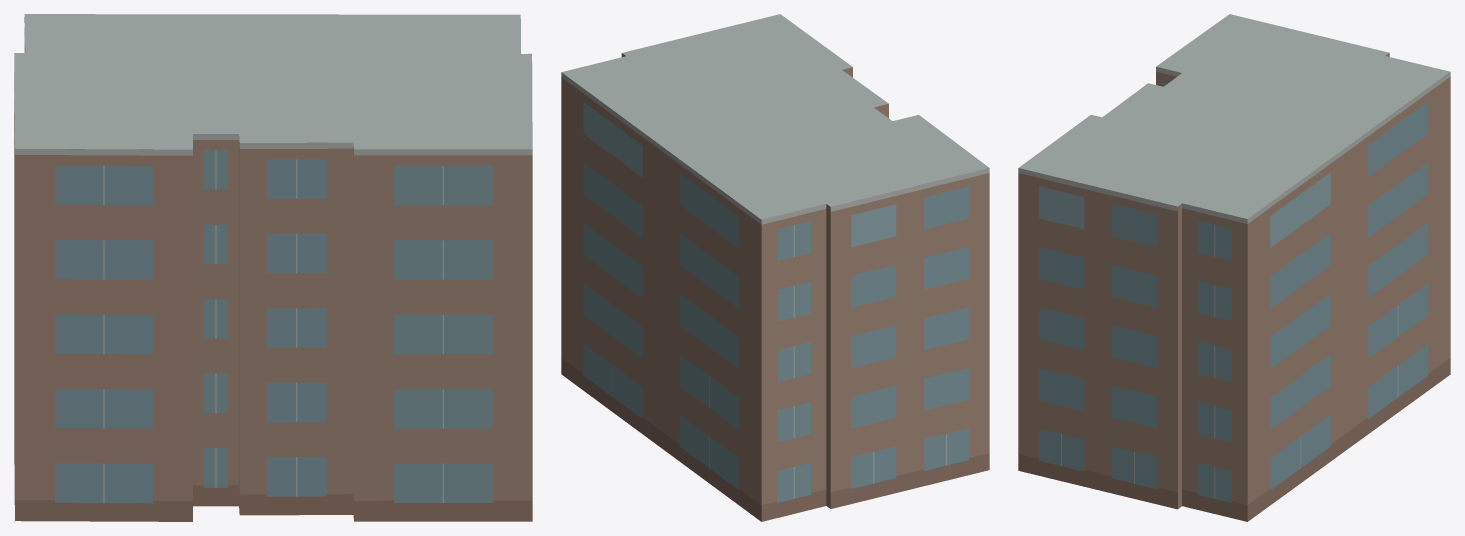
The model's file is survey-upis-32668504.glb.
3 views of the same model, side by side, from view 1: azimuth 30°, elevation 25°; view 2: azimuth 150°, elevation 25°; view 3: azimuth 270°, elevation 25° (orthographic). The views are drawn at different scales.
Parts seen in each view (by area): view 1: survey-upis-32668504.tmp; view 2: survey-upis-32668504.tmp; view 3: survey-upis-32668504.tmp.
Boxes of the visible parts, x1=… form: survey-upis-32668504.tmp: x1=14, y1=14, x2=532, y2=521; survey-upis-32668504.tmp: x1=561, y1=14, x2=989, y2=521; survey-upis-32668504.tmp: x1=1018, y1=14, x2=1450, y2=521.
Size of the model in its own units: 21.64 by 14.9 by 19.27.
